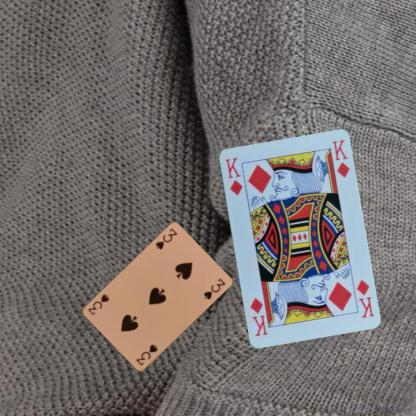3s: (133, 342, 159, 368), (153, 226, 179, 251)
Kd: (222, 154, 244, 196), (354, 277, 376, 319)
